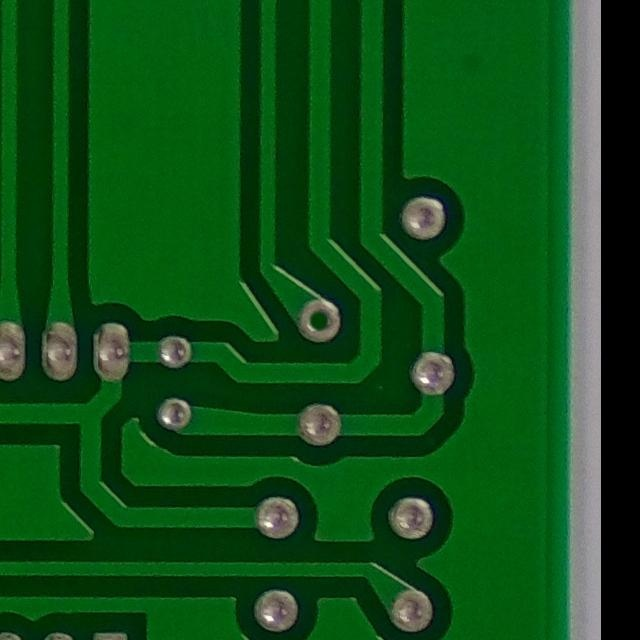missing_hole: (290, 290, 350, 351)
